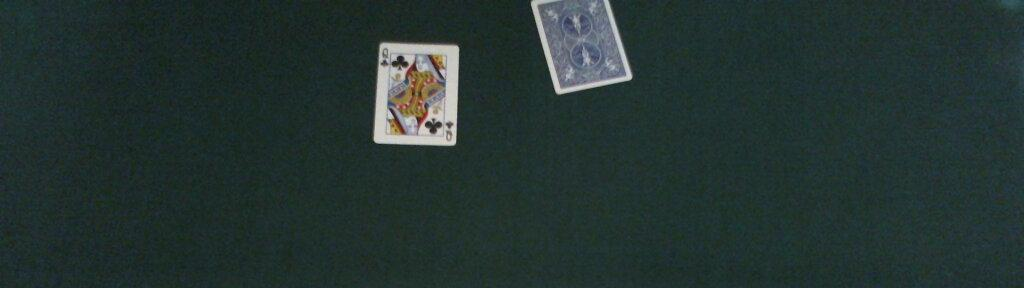back: (530, 1, 633, 95)
queen: (372, 41, 460, 147)
